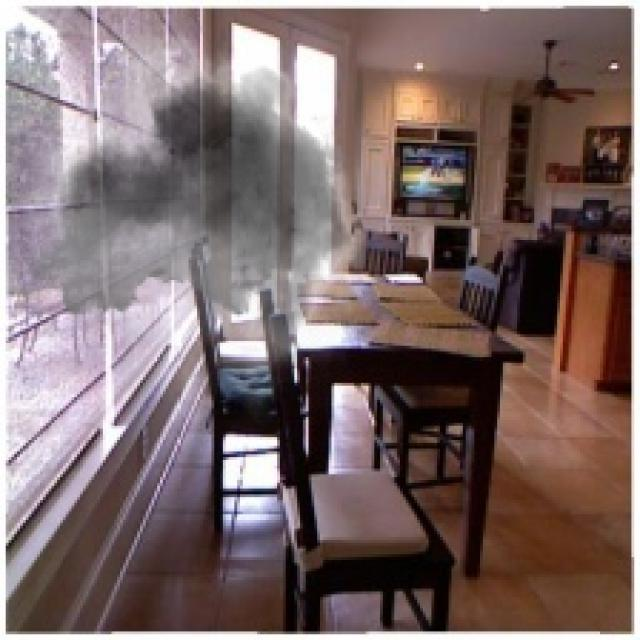Smoke: (26, 11, 383, 426)
